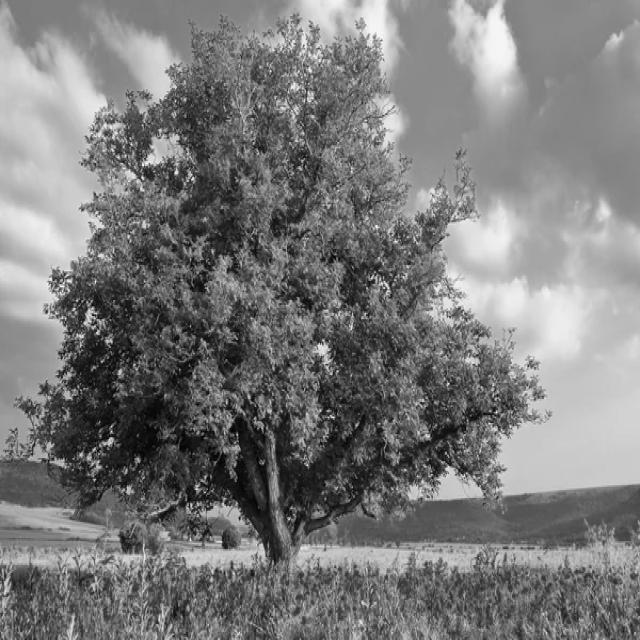Tree: (19, 18, 544, 572)
